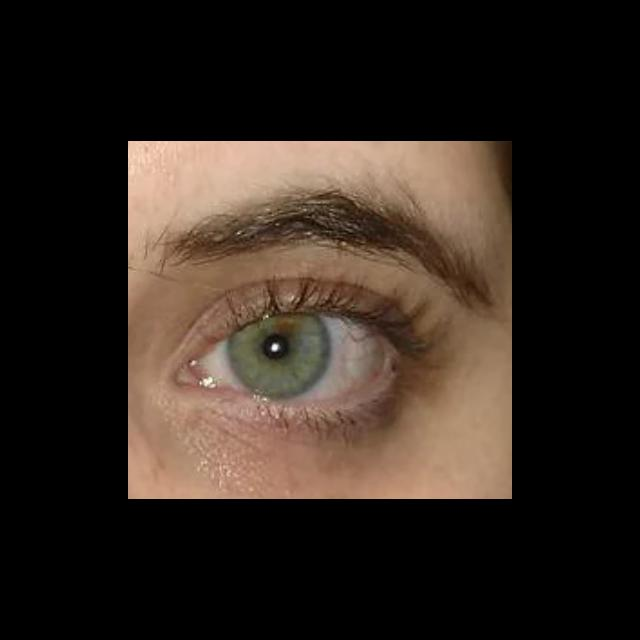eye: (206, 311, 385, 403)
iris: (229, 315, 329, 398)
